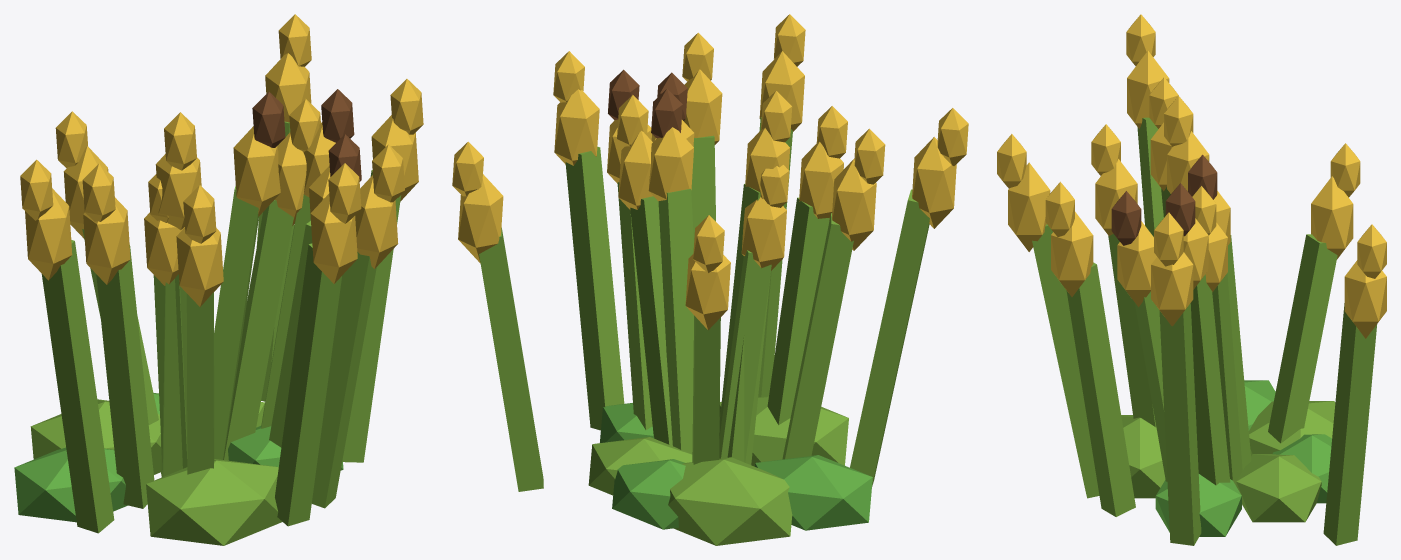
File: wild_grain_2.glb
3 views of the same model, side by side, from view 1: azimuth 30°, elevation 25°; view 2: azimuth 150°, elevation 25°; view 3: azimuth 270°, elevation 25° (orthographic). The views are drawn at different scales.
Visible parts, largest first — view 1: crop, leaf_light, head.020, head.002, head.006, head.014, head.004, head.026, head.024, head.008, head.012, head.016 (+18 smaller); view 2: crop, leaf_light, head.002, head.014, head.016, head.018, head.008, head.020, head.022, head.004, head.026, head.012 (+16 smaller); view 3: crop, leaf_light, head.006, head.022, head.026, head.016, head.018, head, head.002, head.004, head.024, head.001 (+16 smaller).
Boxes of the visible parts, <box> form: crop: <box>30,121,401,545</box>; leaf_light: <box>14,393,343,522</box>; head.020: <box>233,126,280,216</box>; head.002: <box>25,188,72,280</box>; head.006: <box>310,193,357,283</box>; head.014: <box>83,197,130,284</box>; head.004: <box>176,227,223,306</box>; head.026: <box>355,175,398,268</box>; head.024: <box>155,154,201,229</box>; head.008: <box>144,212,184,285</box>; head.012: <box>274,132,306,225</box>; head.016: <box>265,53,311,122</box>; crop: <box>479,117,929,545</box>; leaf_light: <box>600,403,872,530</box>; head.002: <box>912,137,956,228</box>; head.014: <box>832,159,876,250</box>; head.016: <box>458,174,503,263</box>; head.018: <box>554,89,599,165</box>; head.008: <box>741,197,786,270</box>; head.020: <box>648,127,693,201</box>; head.022: <box>685,254,730,330</box>; head.004: <box>799,141,843,220</box>; head.026: <box>683,69,722,144</box>; head.012: <box>618,131,652,209</box>; crop: <box>1032,117,1377,545</box>; leaf_light: <box>1155,380,1331,536</box>; head.006: <box>1008,162,1050,251</box>; head.022: <box>1311,176,1353,259</box>; head.026: <box>1051,211,1093,296</box>; head.016: <box>1344,260,1386,338</box>; head.018: <box>1151,252,1193,326</box>; head: <box>1117,221,1156,307</box>; head.002: <box>1127,51,1169,128</box>; head.004: <box>1095,159,1137,235</box>; head.024: <box>1167,131,1209,193</box>; head.001: <box>1111,191,1141,245</box>.
Size of the model in its own units: 0.8084 by 0.8018 by 0.7047.
